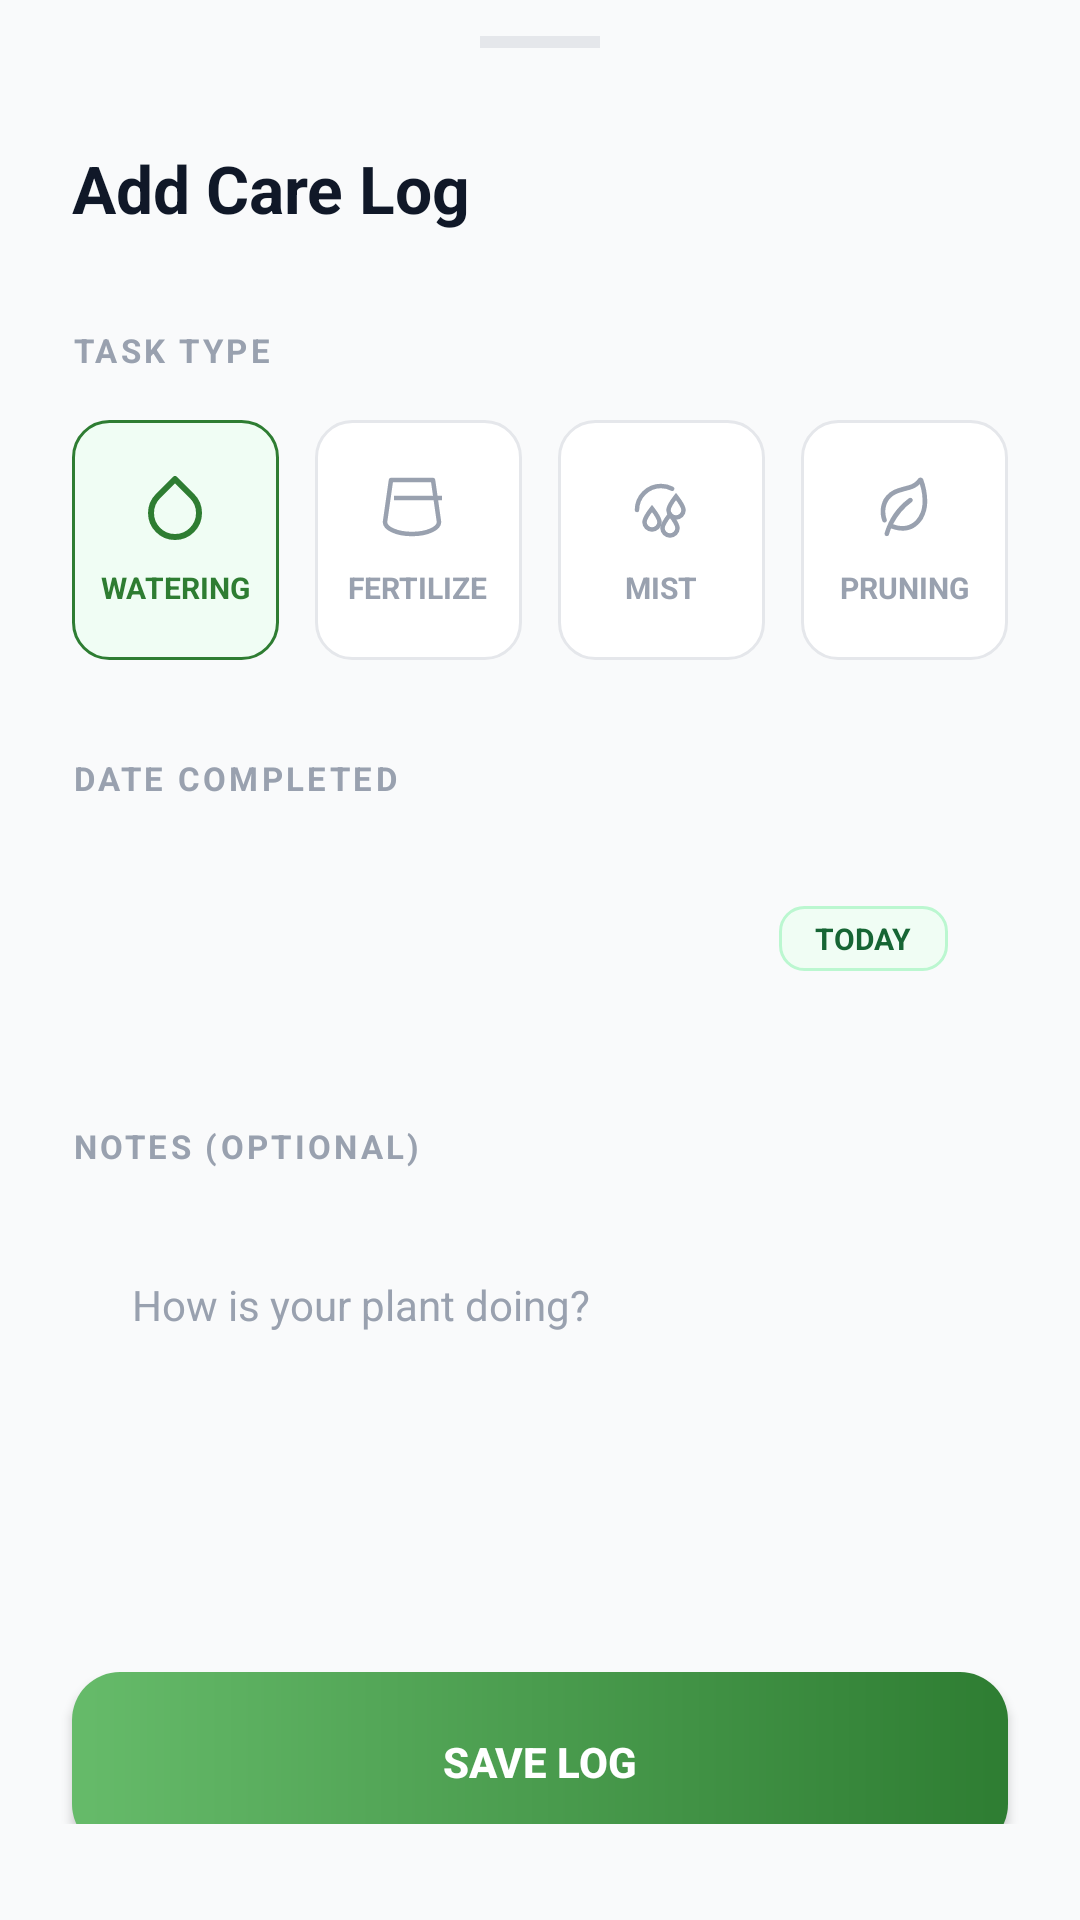

Locate icon controls on the screen. Image size 1080 × 1920, boxes as Rect(x1, y1, x2, y2).
leaf: Rect(880, 477, 928, 536)
water drop: Rect(148, 476, 202, 540)
